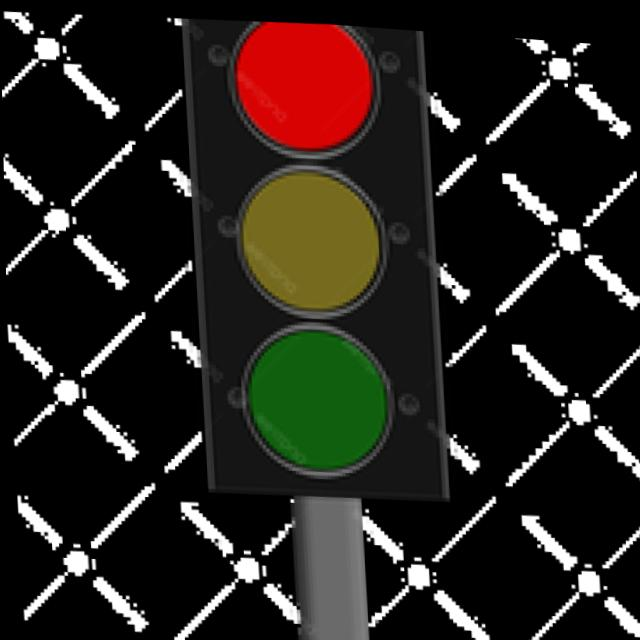green_light: (178, 282, 449, 514)
red_light: (206, 12, 406, 187)
yellow_light: (180, 93, 423, 309)
